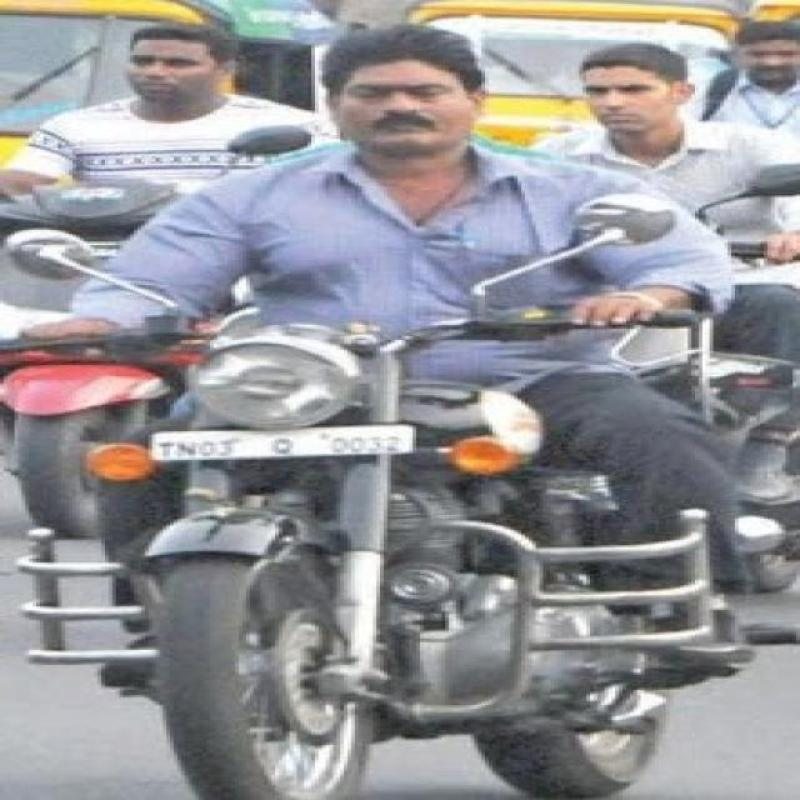nohelmet: (280, 22, 546, 156)
